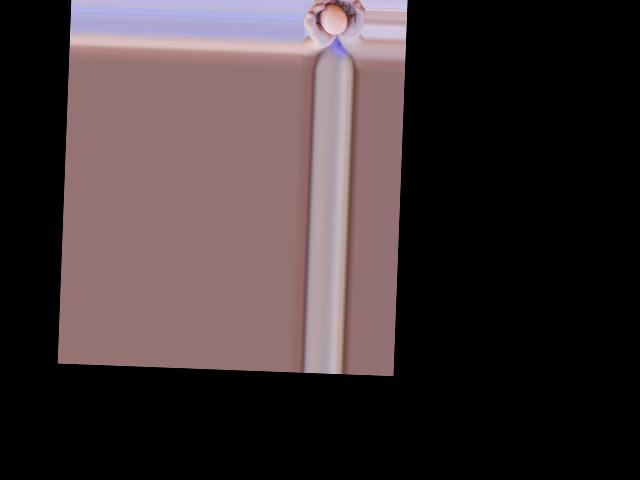egg: (319, 3, 348, 35)
